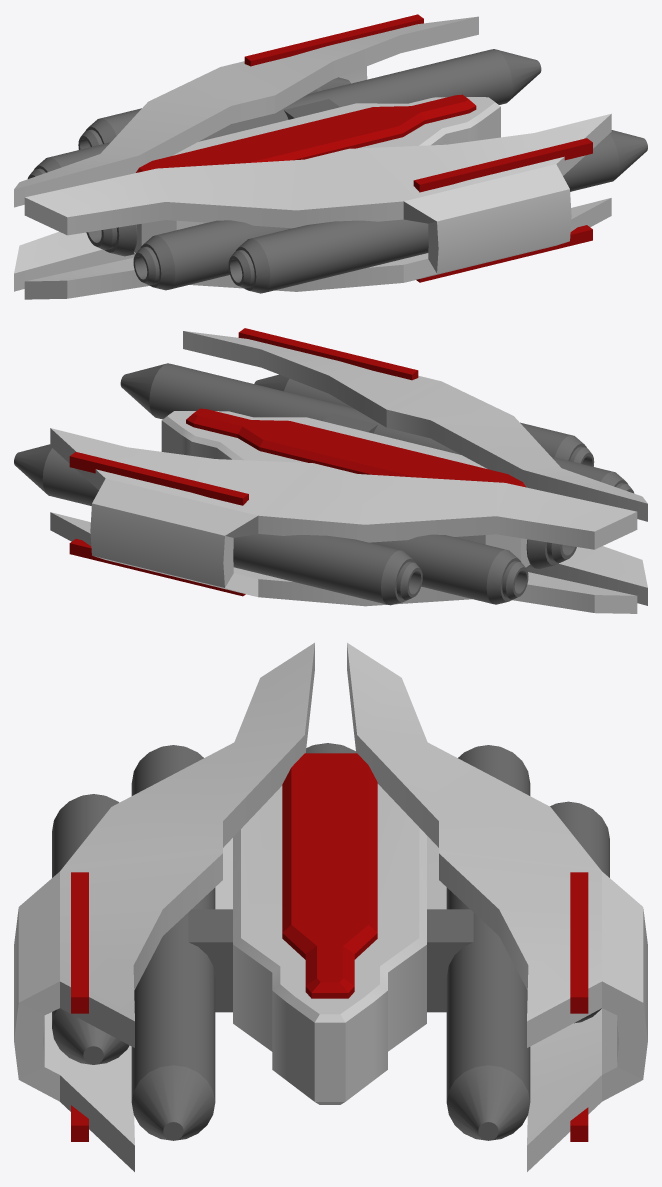
The model's file is AlienShipA.fbx.
The picture shows the model from 3 angles, top to bottom: view 1: azimuth 30°, elevation 25°; view 2: azimuth 150°, elevation 25°; view 3: azimuth 270°, elevation 25°; orthographic projection. The views are drawn at different scales.
Visible parts, largest first — view 1: AlienShipA; view 2: AlienShipA; view 3: AlienShipA.
Part boxes in pixels (x1,y1,x2,y2): AlienShipA: (14,14,647,299); AlienShipA: (14,328,647,613); AlienShipA: (14,642,647,1171).
Bounding box in the file's own units: 622 × 106 × 404.
